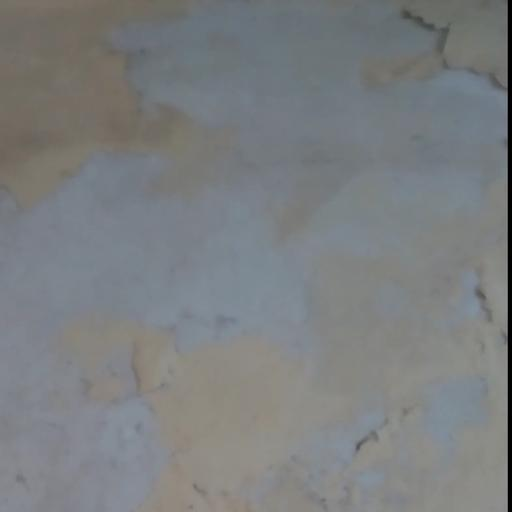peeling: (0, 2, 512, 512)
